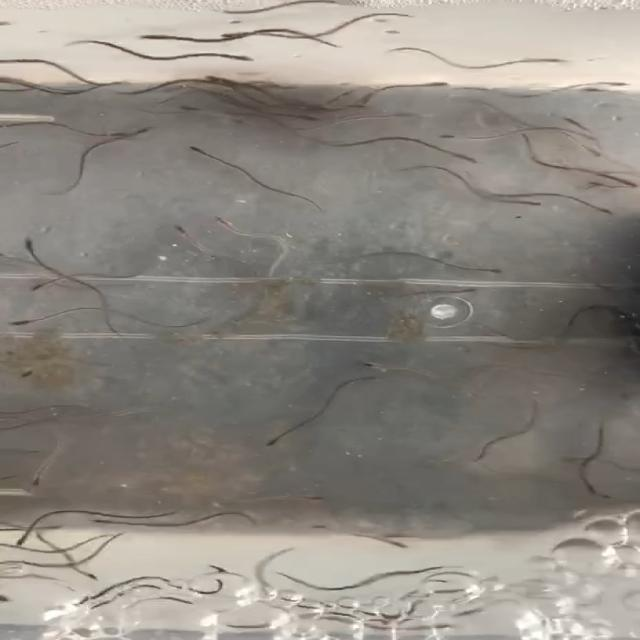active_glass_eel: (94, 124, 142, 142), (199, 70, 239, 90), (2, 313, 58, 327), (32, 275, 75, 293), (459, 261, 506, 277), (406, 622, 454, 637), (12, 363, 48, 382), (133, 30, 185, 43), (215, 215, 245, 236), (125, 121, 164, 137), (21, 232, 45, 258), (258, 431, 290, 450), (281, 110, 323, 124), (318, 0, 366, 12), (442, 151, 480, 166), (21, 469, 51, 488), (177, 140, 208, 158), (76, 564, 106, 582), (592, 77, 636, 89), (518, 56, 569, 66), (360, 361, 406, 372), (171, 226, 199, 244), (381, 536, 414, 551), (218, 28, 253, 42), (5, 529, 32, 547), (578, 475, 602, 495), (437, 132, 484, 142), (294, 492, 333, 504), (577, 84, 618, 95), (576, 140, 602, 157), (177, 102, 210, 115), (512, 197, 545, 210), (410, 79, 450, 89), (220, 52, 258, 62), (469, 449, 494, 462), (599, 204, 622, 218), (446, 284, 477, 294), (86, 516, 114, 527)
